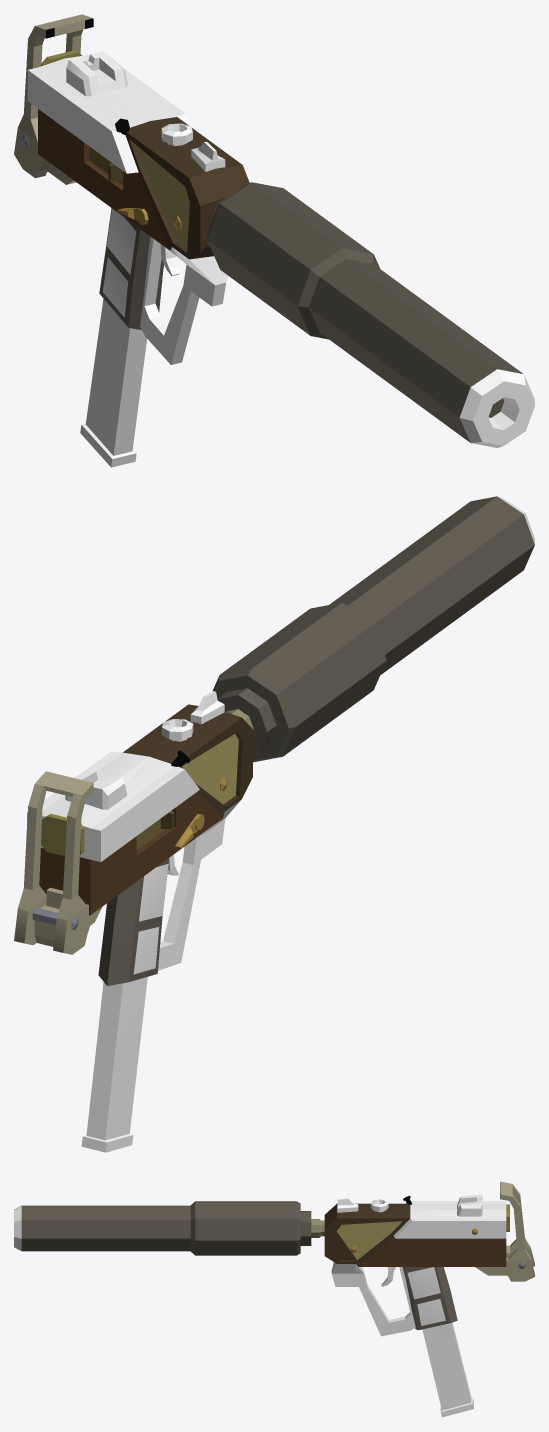
File: SMG.fbx
3 renders of one model, top to bottom at view 1: azimuth 30°, elevation 25°; view 2: azimuth 150°, elevation 25°; view 3: azimuth 270°, elevation 25°, orthographic. The views are drawn at different scales.
Parts seen in each view (by area): view 1: SMG; view 2: SMG; view 3: SMG.
Part boxes in pixels (x1,y1,x2,y2): SMG: (14,14,534,467); SMG: (14,496,534,1152); SMG: (14,1181,534,1417).
Size of the model in its own units: 8.56 by 36.85 by 77.06.
